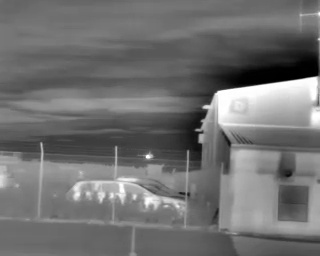HELICOPTER: (135, 148, 157, 163)
